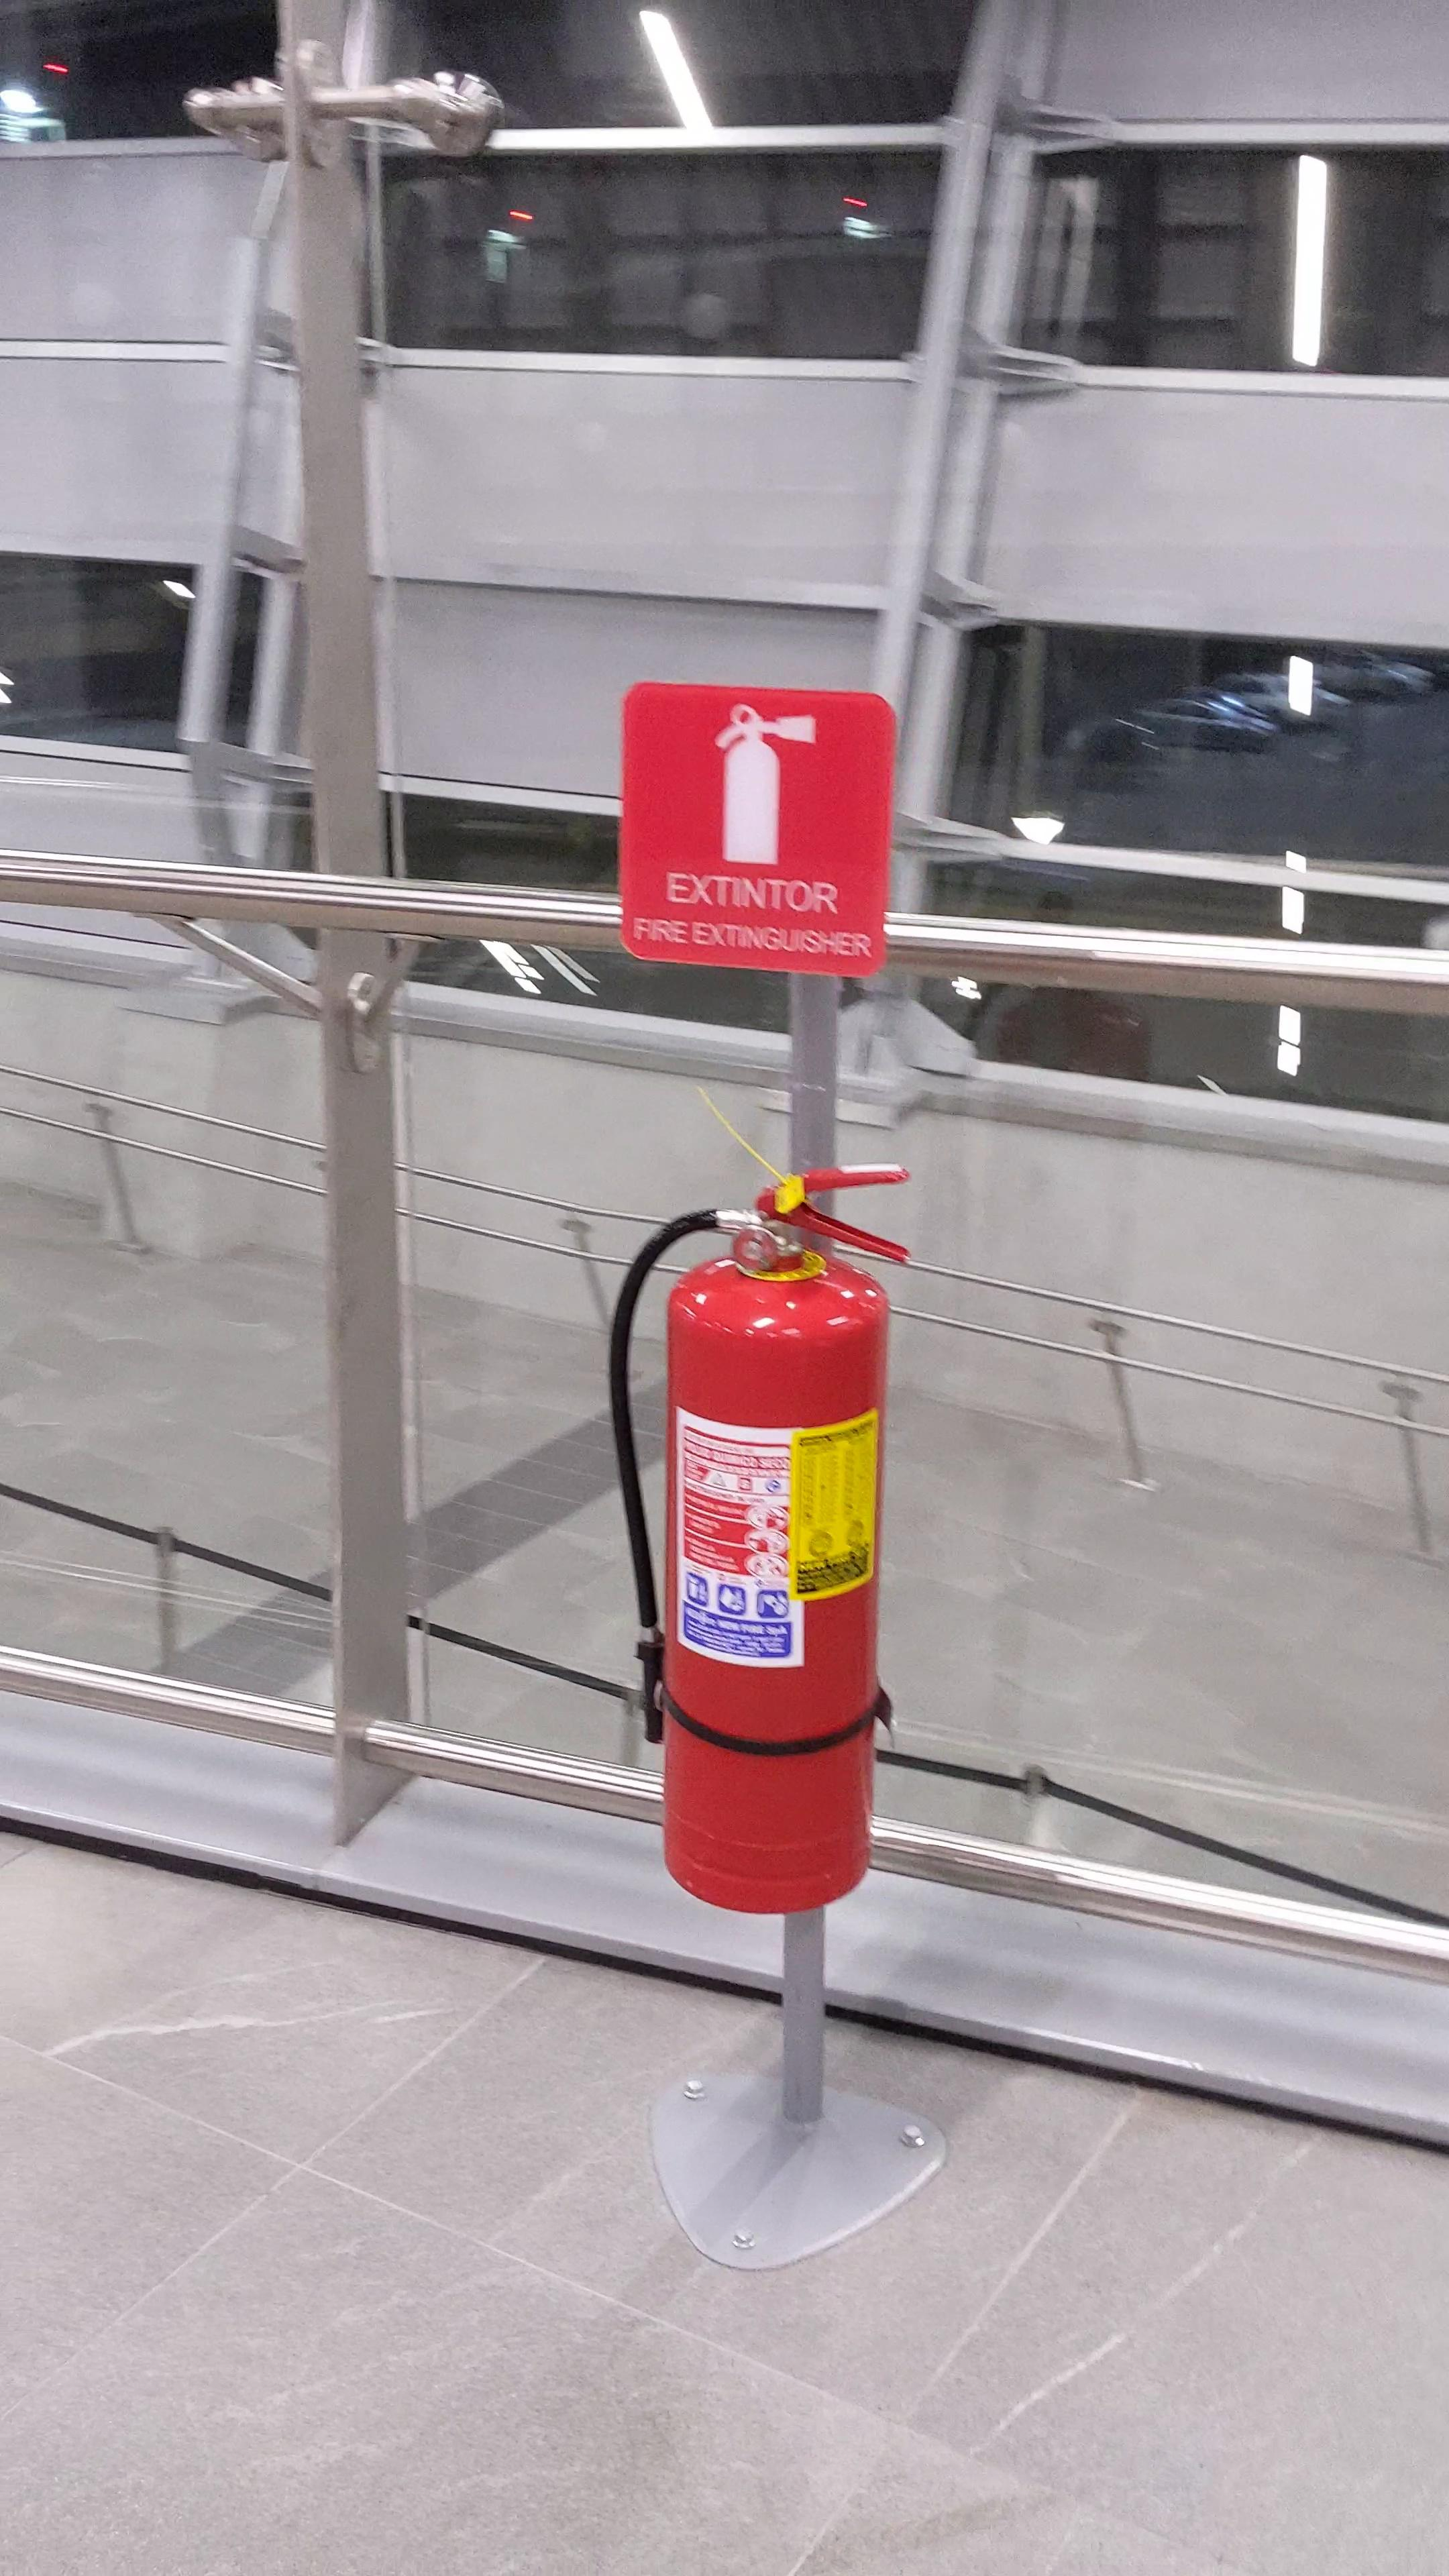extinguisher symbol: (704, 701, 821, 872)
fire-extinguisher: (587, 1134, 920, 1921)
